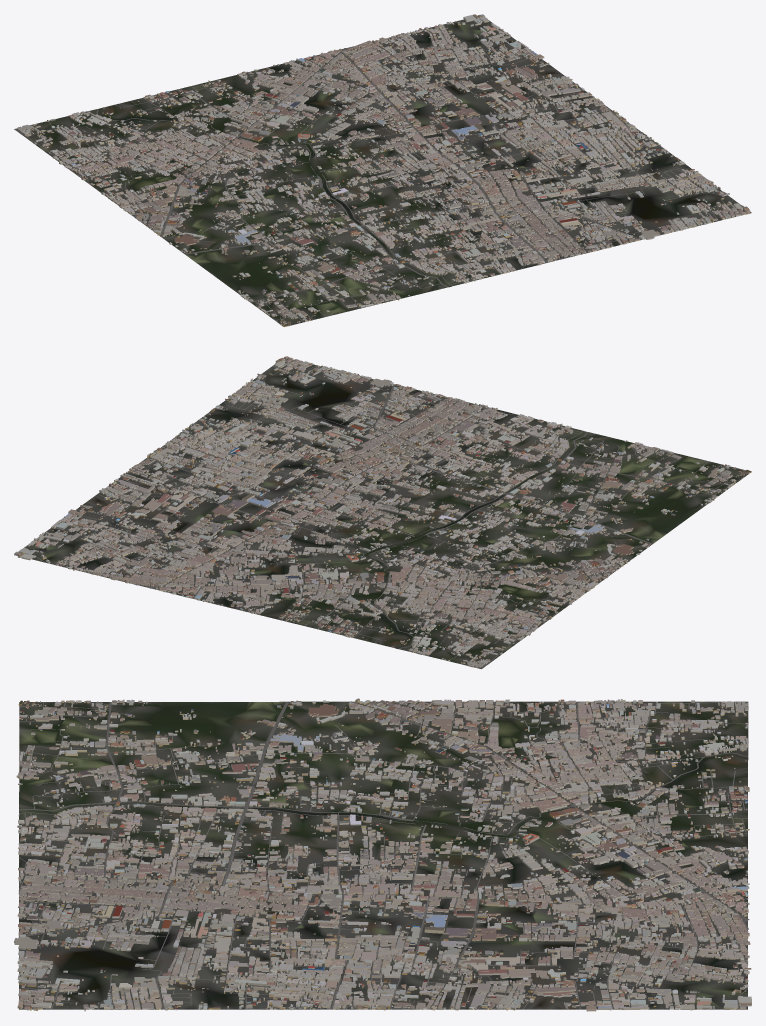
3 views of the same model, one above another, from view 1: azimuth 30°, elevation 25°; view 2: azimuth 150°, elevation 25°; view 3: azimuth 270°, elevation 25° (orthographic). The views are drawn at different scales.
Parts seen in each view (by area): view 1: buildings, ground, roads; view 2: buildings, ground, roads; view 3: buildings, ground, roads, water.
Part boxes in pixels (left/top/right/bottom): buildings: left=17, top=14, right=750, bottom=326; ground: left=14, top=18, right=751, bottom=326; roads: left=14, top=20, right=745, bottom=325; buildings: left=14, top=356, right=751, bottom=668; ground: left=14, top=357, right=747, bottom=668; roads: left=21, top=359, right=745, bottom=668; buildings: left=14, top=698, right=751, bottom=1011; ground: left=19, top=701, right=748, bottom=1009; roads: left=18, top=701, right=749, bottom=1009; water: left=252, top=758, right=708, bottom=834.
Size of the model in its own units: 2825 by 26.48 by 2836.
